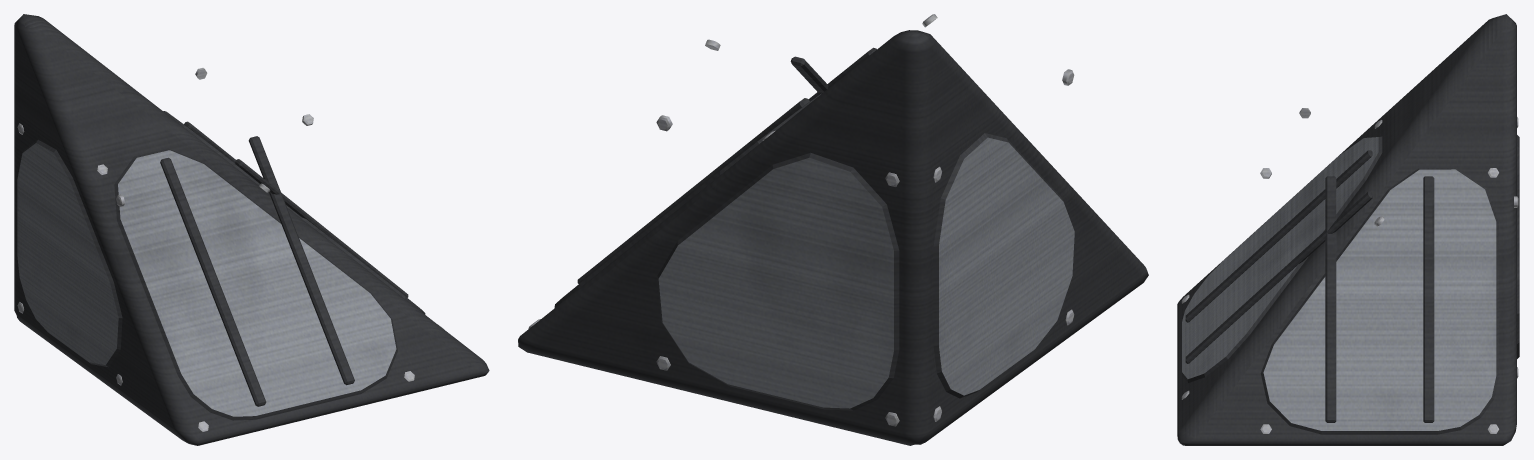
The model's file is R4B_CornerWedge.glb.
3 renders of one model, left to right at view 1: azimuth 30°, elevation 25°; view 2: azimuth 150°, elevation 25°; view 3: azimuth 270°, elevation 25°, orthographic. The views are drawn at different scales.
Visible parts, largest first — view 1: R4B_CornerWedge; view 2: R4B_CornerWedge; view 3: R4B_CornerWedge.
Part boxes in pixels (x1,y1,x2,y2): R4B_CornerWedge: [14, 14, 489, 445]; R4B_CornerWedge: [518, 14, 1148, 445]; R4B_CornerWedge: [1177, 14, 1519, 445].
Bounding box in the file's own units: 0.4985 × 0.4778 × 0.4985.
3 materials, 3 textured.
